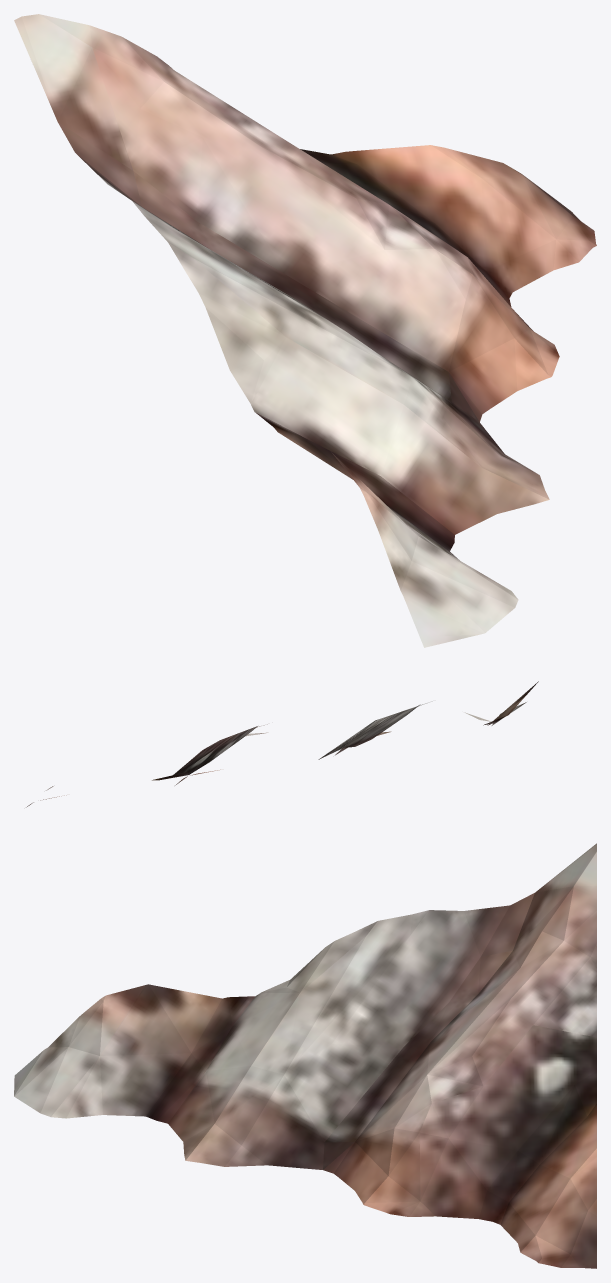
The picture shows the model from 3 angles, top to bottom: view 1: azimuth 30°, elevation 25°; view 2: azimuth 150°, elevation 25°; view 3: azimuth 270°, elevation 25°; orthographic projection. The views are drawn at different scales.
Size of the model in its own units: 0.4546 by 0.2565 by 0.5797.
Materials: 1 (1 with a texture image).
